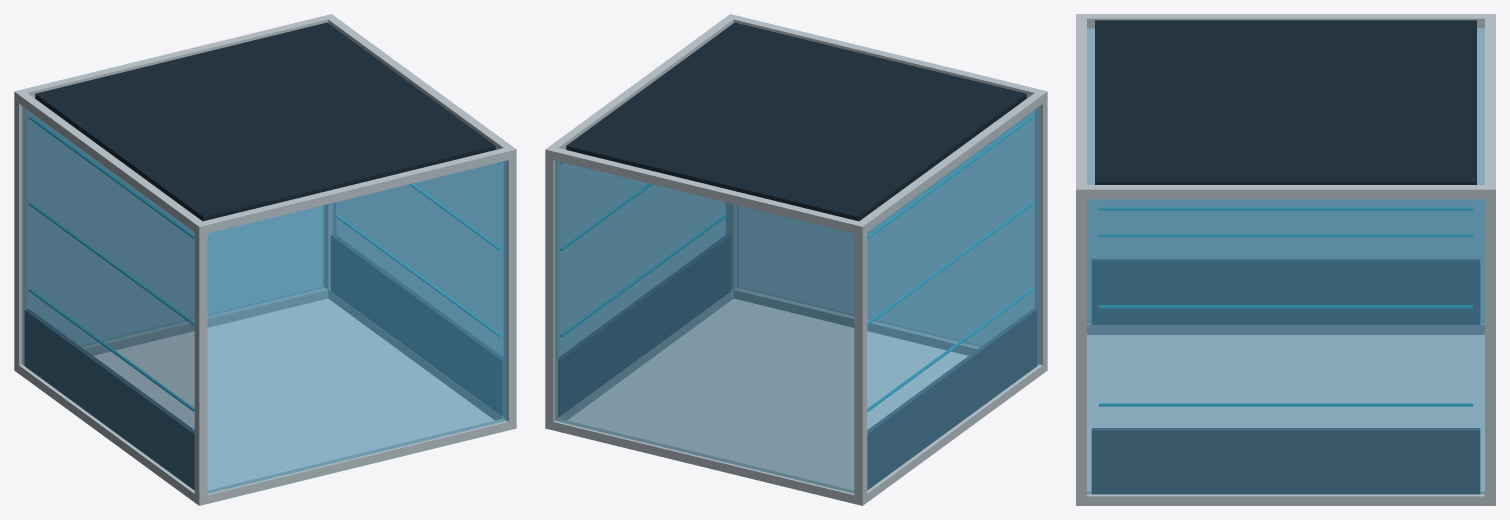
Rendered from 01_L76_TransparentElectroplatingSafetyEnclosure.fbx.
The picture shows the model from 3 angles, left to right: view 1: azimuth 30°, elevation 25°; view 2: azimuth 150°, elevation 25°; view 3: azimuth 270°, elevation 25°; orthographic projection. The views are drawn at different scales.
Parts seen in each view (by area): view 1: TransparentElectroplatingSafetyEnclosure; view 2: TransparentElectroplatingSafetyEnclosure; view 3: TransparentElectroplatingSafetyEnclosure.
Part boxes in pixels (bbox=[...]): TransparentElectroplatingSafetyEnclosure: bbox=[14, 14, 516, 505]; TransparentElectroplatingSafetyEnclosure: bbox=[545, 14, 1047, 505]; TransparentElectroplatingSafetyEnclosure: bbox=[1076, 14, 1495, 505].
Size of the model in its own units: 500 by 421 by 505.
